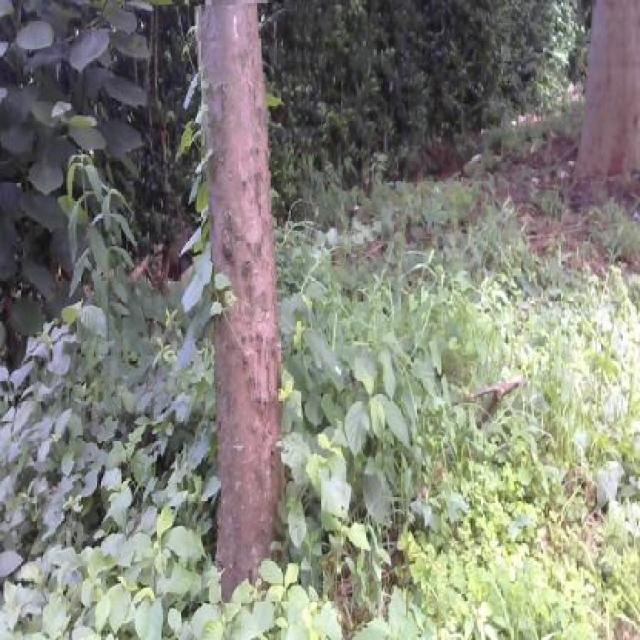tree trunk: (177, 2, 318, 602)
